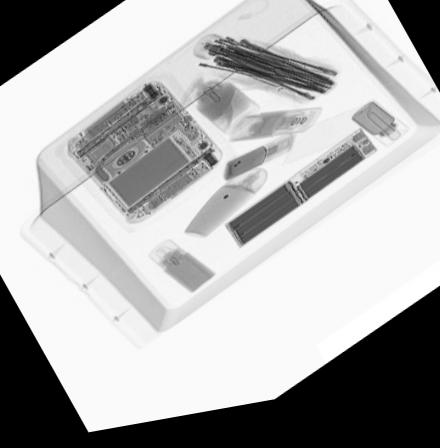Powerbank: (219, 136, 380, 258)
